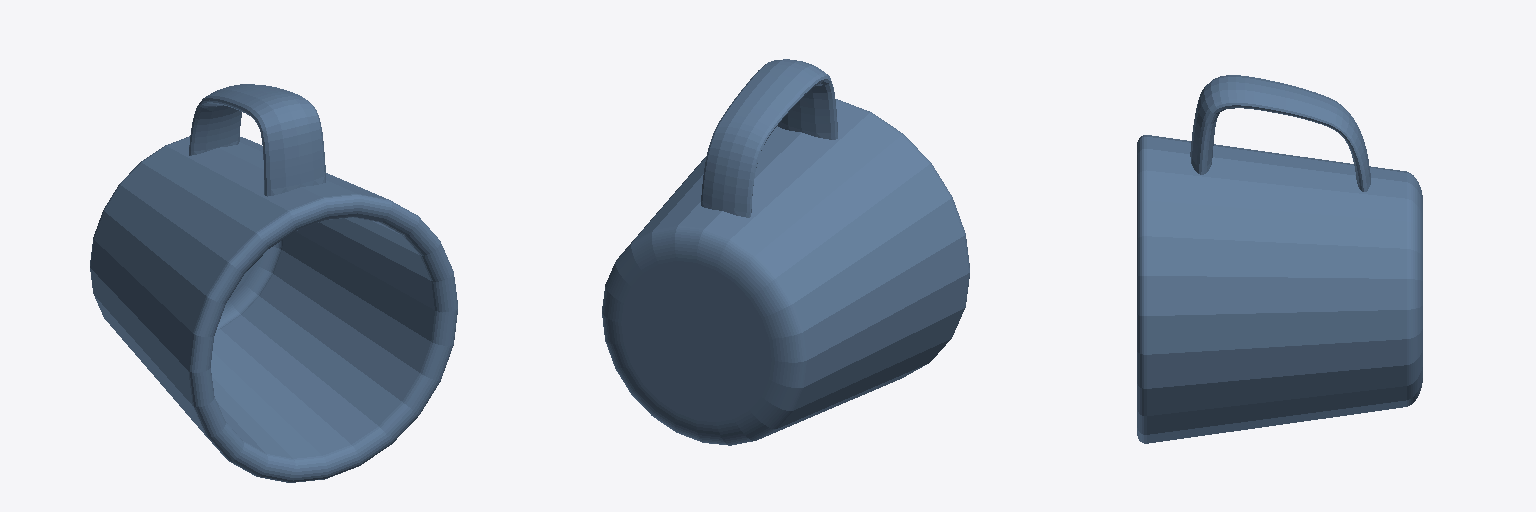
The picture shows the model from 3 angles: view 1: azimuth 30°, elevation 25°; view 2: azimuth 150°, elevation 25°; view 3: azimuth 270°, elevation 25°; orthographic projection.
Visible parts, largest first — view 1: instance_cup_6; view 2: instance_cup_6; view 3: instance_cup_6.
Boxes of the visible parts, <box> form: instance_cup_6: <box>90,84,457,482</box>; instance_cup_6: <box>602,59,969,445</box>; instance_cup_6: <box>1137,75,1422,443</box>.
Bounding box in the file's own units: 0.0755 × 0.0934 × 0.0697.